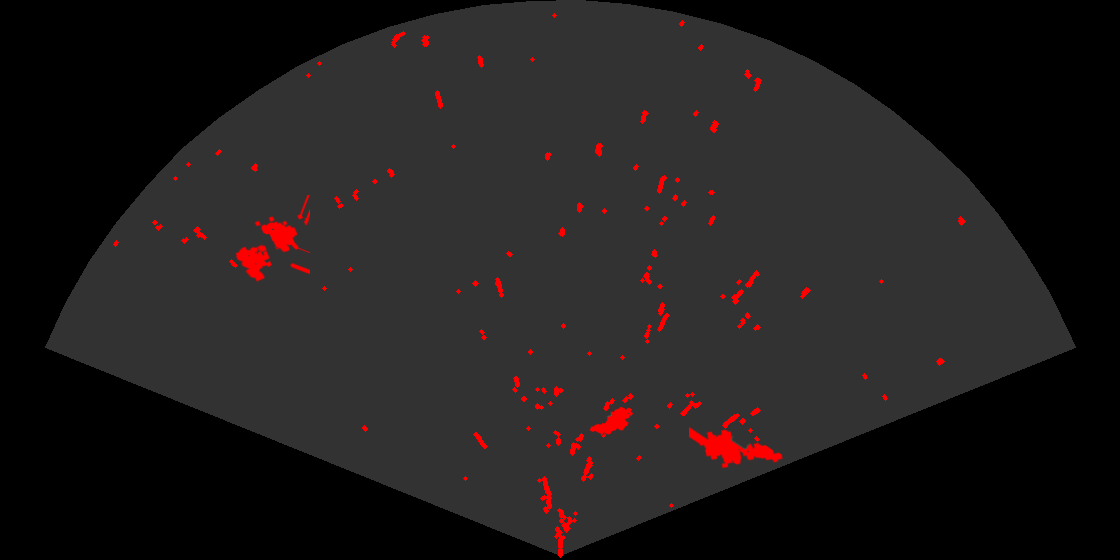AUV: (588, 405, 635, 436)
cage: (234, 195, 310, 283)
frogman: (689, 425, 784, 470)
